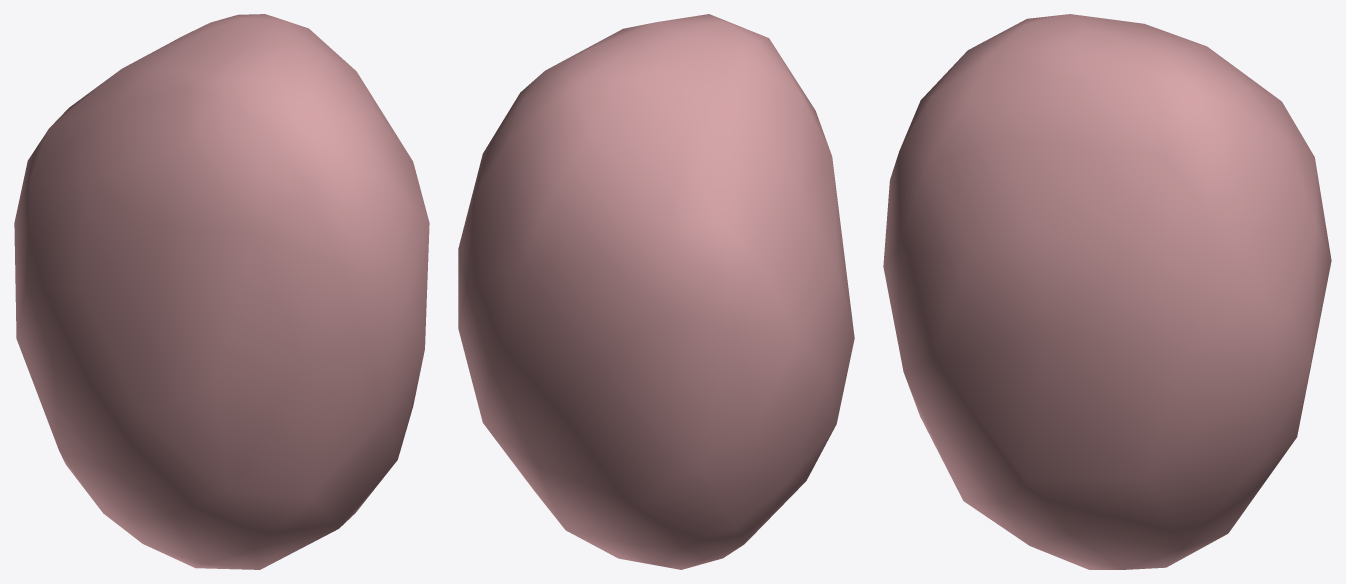
File: fma7212_fj3138.glb
3 renders of one model, left to right at view 1: azimuth 30°, elevation 25°; view 2: azimuth 150°, elevation 25°; view 3: azimuth 270°, elevation 25°, orthographic. The views are drawn at different scales.
Visible parts, largest first — view 1: FMA7212_FJ3138; view 2: FMA7212_FJ3138; view 3: FMA7212_FJ3138.
Boxes of the visible parts, box(x1,y1,x2,y2) form: FMA7212_FJ3138: box(14, 14, 429, 569); FMA7212_FJ3138: box(458, 14, 854, 569); FMA7212_FJ3138: box(883, 14, 1331, 569).
Size of the model in its own units: 0.0201 by 0.0289 by 0.0222.
